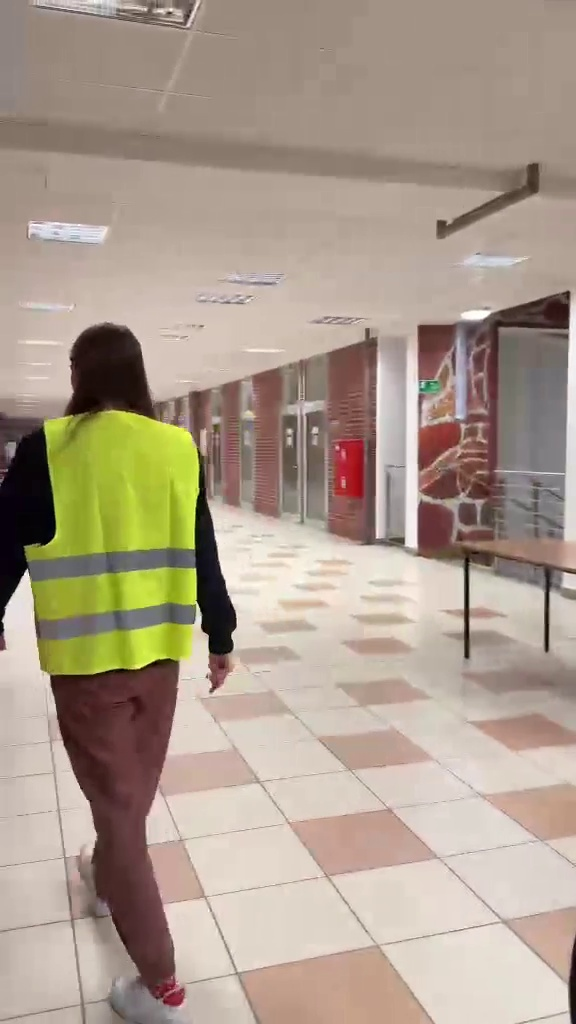vest: (2, 320, 236, 1007)
